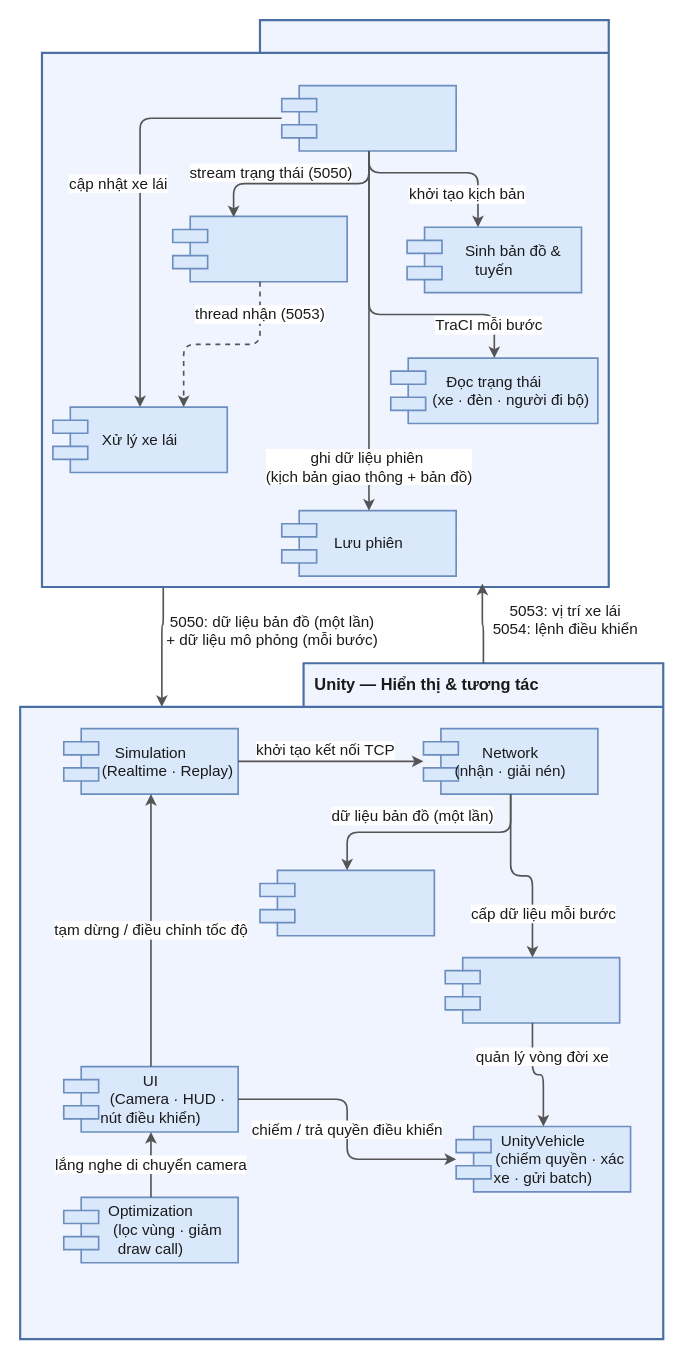
The diagram is 682 pixels wide and 1358 high, and some of its shapes have lost their labels. The box of each missing label's shape, as (x1, y1, x2, y2) in pixels:
Dựng bản đồ 3D (RoadDataListener · Maker): (259, 869, 435, 936)
Mạng (tách khung · nén): (171, 215, 347, 282)
Python — Mô phỏng & điều phối: (40, 19, 609, 588)
Traffic (TrafficerManager · TrafficLight): (444, 956, 620, 1023)
Điều phối: (280, 84, 456, 151)
